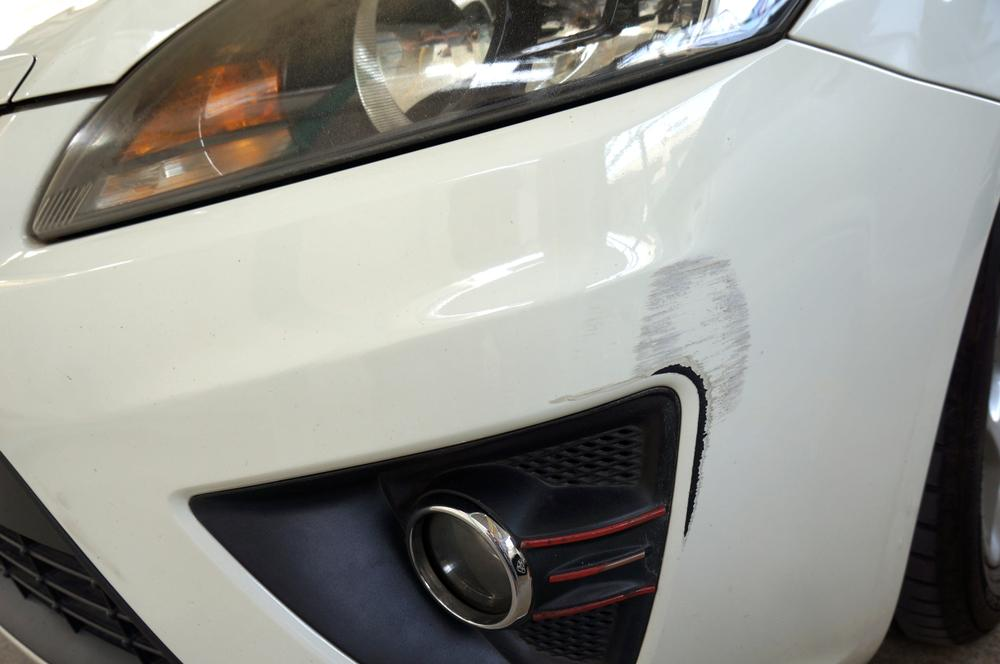scratch: (541, 249, 755, 548)
